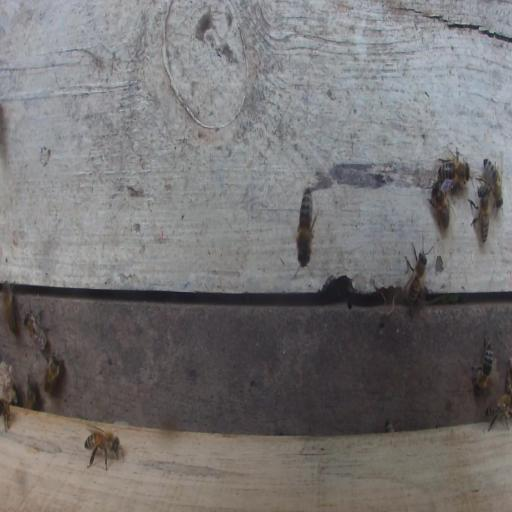bee: (404, 235, 435, 305), (84, 429, 124, 470), (296, 186, 316, 267), (471, 334, 493, 393), (480, 157, 503, 210), (437, 150, 471, 184), (24, 307, 50, 351), (485, 392, 512, 432), (472, 185, 490, 245), (429, 182, 451, 229), (1, 281, 17, 334), (43, 351, 63, 393), (25, 379, 39, 409), (0, 397, 11, 432)
